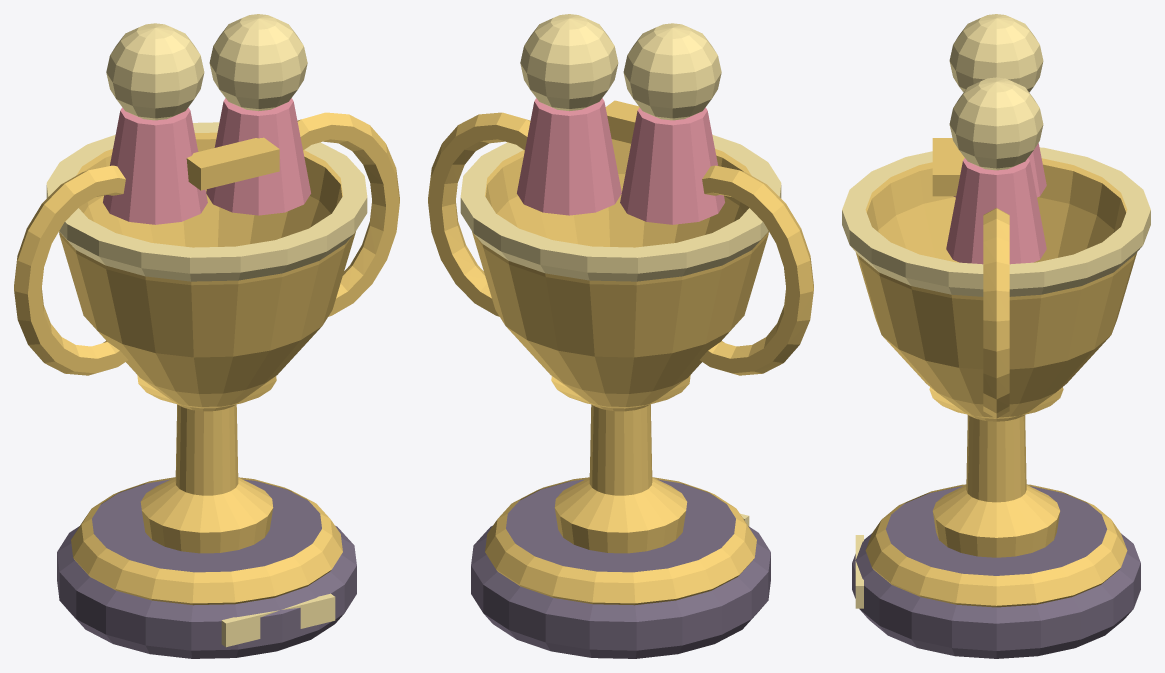
The model's file is social.glb.
3 renders of one model, left to right at view 1: azimuth 30°, elevation 25°; view 2: azimuth 150°, elevation 25°; view 3: azimuth 270°, elevation 25°, orthographic. The views are drawn at different scales.
Size of the model in its own units: 1.27 by 1.84 by 0.92.
